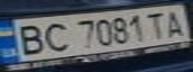0: (93, 16, 115, 47)
1: (127, 11, 148, 43)
7: (72, 17, 96, 50)
8: (109, 13, 130, 46)
A: (160, 7, 190, 37)
B: (6, 21, 51, 57)
C: (36, 20, 72, 53)
T: (142, 9, 172, 39)
